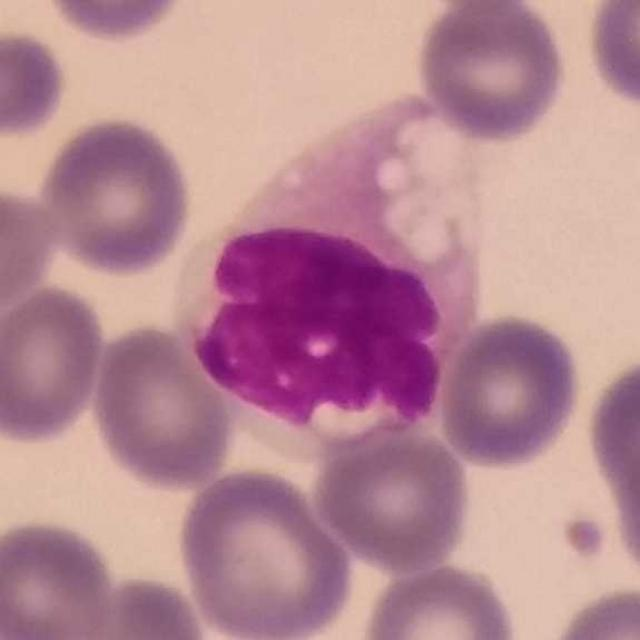Monocyte: (182, 97, 477, 449)
Platelets: (544, 506, 615, 564)
RBC: (172, 464, 358, 640), (36, 112, 196, 278), (86, 318, 237, 493), (308, 421, 476, 575), (433, 309, 585, 473), (411, 0, 571, 146), (0, 280, 109, 448), (0, 514, 120, 639), (22, 571, 215, 640), (356, 560, 522, 640), (582, 348, 640, 566), (0, 179, 61, 322), (0, 24, 72, 142), (38, 0, 196, 46), (603, 410, 640, 596), (582, 0, 640, 112), (543, 582, 640, 640)
